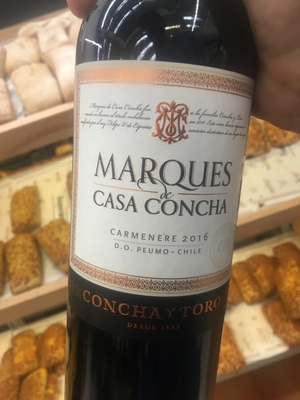marques de casa concha carmenere: (48, 12, 267, 364)
